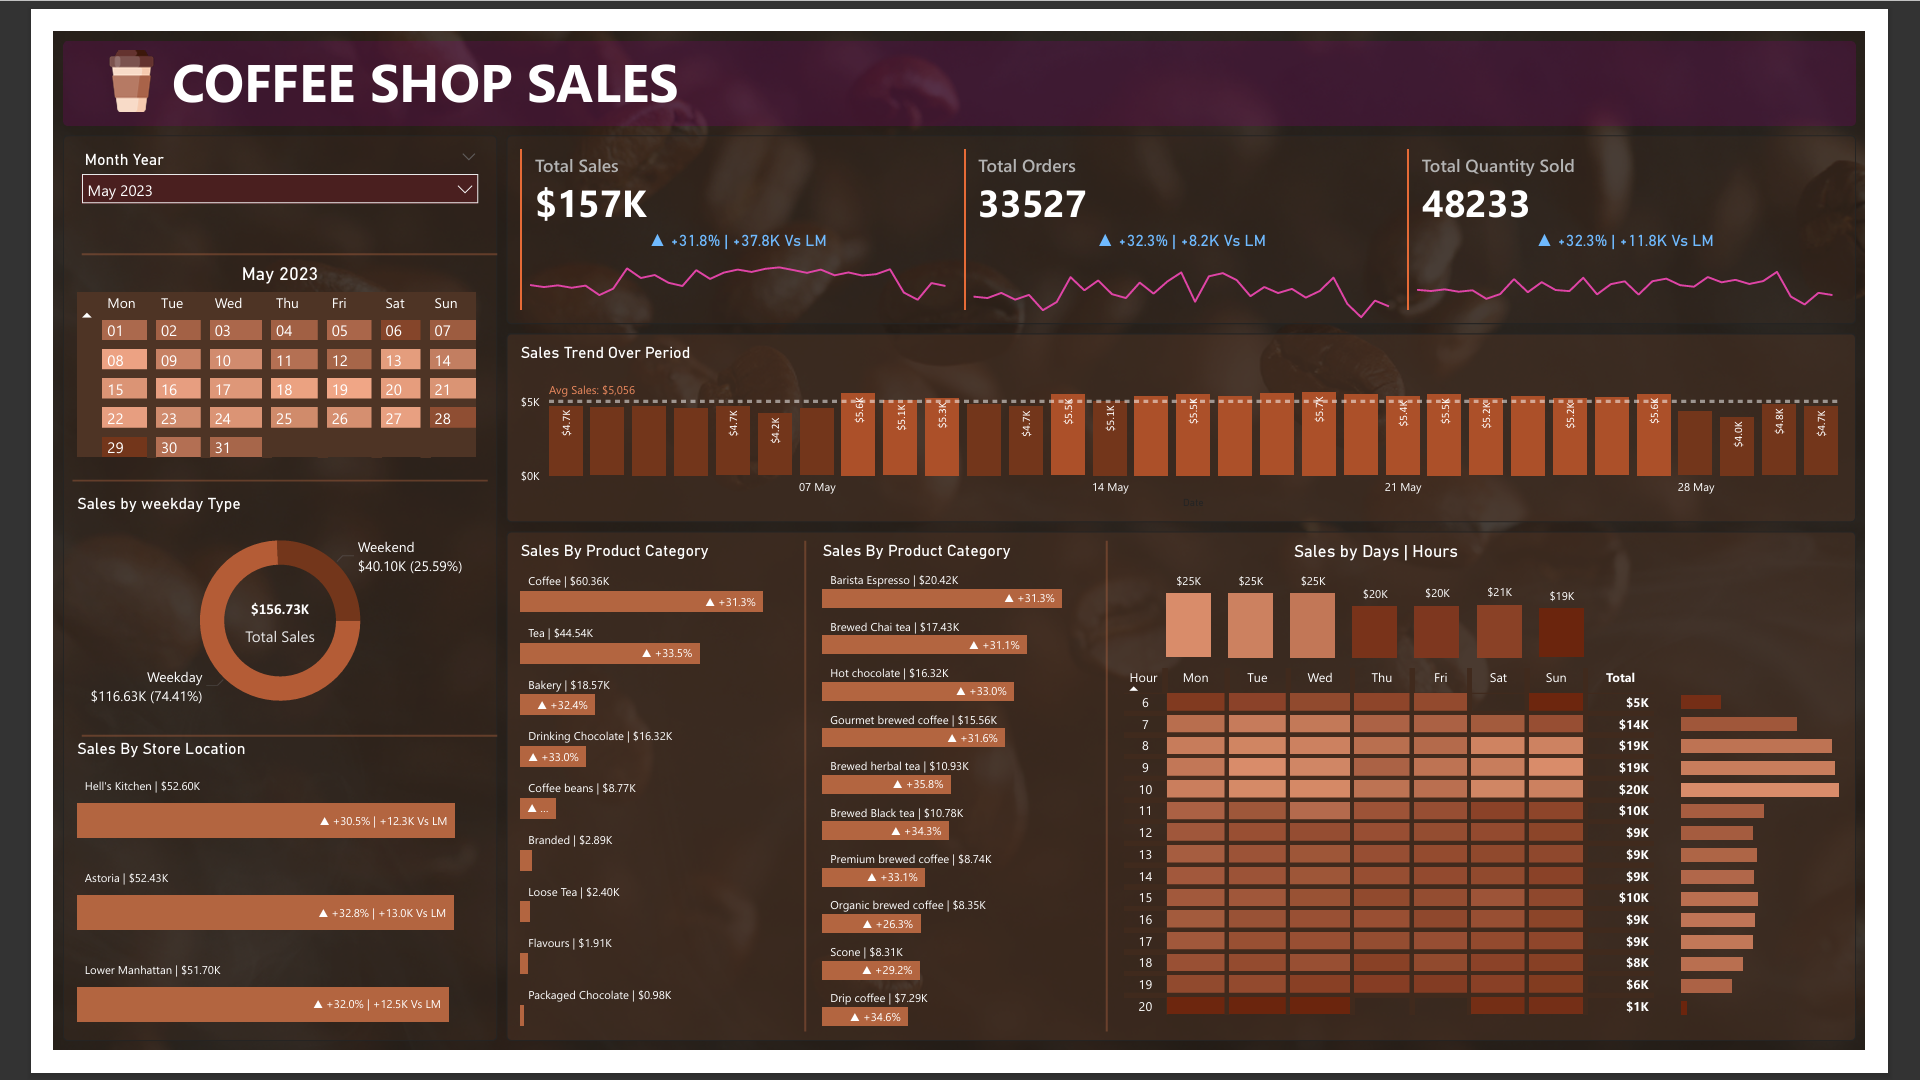

What the dashboard file says about the page in this screenshot:
{"tool":"powerbi","page":{"name":"Coffee Shop Sales","canvas":[1920,1080],"ordinal":0},"visuals":[{"type":"shape","box":[10,10,1900,90],"z":0},{"type":"shape","box":[10,110,460,960],"z":1000},{"type":"shape","box":[480,110,1430,200],"z":2000},{"type":"shape","box":[480,320,1430,200],"z":3000},{"type":"textbox","box":[120,10,600,90],"z":4000},{"type":"cardVisual","fields":{"Data":["Transactions.Total Sales"]},"box":[490,120,470,180],"z":5000},{"type":"shape","box":[480,530,1430,540],"z":6000},{"type":"image","box":[45,5,75,95],"z":7000},{"type":"lineChart","fields":{"Y":["Transactions.Total Sales"],"Category":["Date Table.Date Hierarchy.Date"]},"box":[490,210,470,100],"z":8000},{"type":"cardVisual","fields":{"Data":["Transactions.Total Orders"]},"box":[960,120,470,180],"z":9000},{"type":"lineChart","fields":{"Y":["Transactions.Total Orders"],"Category":["Date Table.Date Hierarchy.Date"]},"box":[960,210,470,100],"z":10000},{"type":"cardVisual","fields":{"Data":["Transactions.Total Quantity Sold"]},"box":[1430,120,470,180],"z":11000},{"type":"lineChart","fields":{"Y":["Transactions.Total Quantity Sold"],"Category":["Date Table.Date Hierarchy.Date"]},"box":[1430,210,470,90],"z":12000},{"type":"pivotTable","fields":{"Rows":["Date Table.Week Number"],"Columns":["Date Table.Day Name"],"Values":["Min(Date Table.Day Number)"]},"box":[20,272,440,200],"z":13000},{"type":"slicer","fields":{"Values":["Date Table.Month Year"]},"box":[20,120,440,100],"z":14000},{"type":"card","fields":{"Values":["Min(Date Table.Month Year)"]},"box":[165,232,150,50],"z":15000},{"type":"donutChart","title":"Sales by weekday Type","fields":{"Category":["Date Table.weekday Type"],"Y":["Transactions.Total Sales"]},"box":[20,490,440,250],"z":16000},{"type":"card","fields":{"Values":["Transactions.Total Sales"]},"box":[190,590,100,68],"z":17000},{"type":"clusteredBarChart","title":"Sales By Store Location","fields":{"Category":["Transactions.store_location"],"Y":["Transactions.Placeholder","Transactions.Total Sales"]},"box":[20,750,440,310],"z":18000},{"type":"shape","box":[790,540,12.5,520],"z":19000},{"type":"shape","box":[20,470,440,12],"z":20000},{"type":"columnChart","title":"Sales Trend Over Period","fields":{"Y":["Transactions.Total Sales"],"Category":["Date Table.Date"]},"box":[490,330,1410,180],"z":21000},{"type":"clusteredBarChart","title":"Sales By Product Category","fields":{"Y":["Transactions.Placeholder","Transactions.Total Sales"],"Category":["Transactions.product_category"]},"box":[490,540,300,520],"z":22000},{"type":"shape","box":[30,727.1,440,12.9],"z":23000},{"type":"shape","box":[30,230,440,12],"z":24000},{"type":"clusteredBarChart","title":"Sales By Product Category","fields":{"Y":["Transactions.Placeholder","Transactions.Total Sales"],"Category":["Transactions.product_type"]},"box":[810,540,300,520],"z":25000},{"type":"shape","box":[1110,540,12,520],"z":26000},{"type":"pivotTable","fields":{"Rows":["Transactions.transaction_hour"],"Columns":["Date Table.Day Name"],"Values":["Transactions.Total Sales"]},"box":[1130,670,590,400],"z":27000},{"type":"barChart","fields":{"Category":["Transactions.Hour"],"Y":["Transactions.Total Sales"]},"box":[1720,689,180,360],"z":28000},{"type":"barChart","fields":{"Category":["Transactions.Hour"],"Y":["Transactions.Total Sales"]},"box":[2483,1186,180,360],"z":29000},{"type":"columnChart","title":"Sales by Days | Hours","fields":{"Y":["Transactions.Total Sales"],"Category":["Date Table.Day Name"]},"box":[1174,540,455,130],"z":30000}]}

Visuals, with their boxes in screenshot pixels (x1, y1, x2, y2), scaled from the page's 1920x1080 canvas onto the 1920x1080 screenshot:
shape: (x1=10, y1=10, x2=1910, y2=100)
shape: (x1=10, y1=110, x2=470, y2=1070)
shape: (x1=480, y1=110, x2=1910, y2=310)
shape: (x1=480, y1=320, x2=1910, y2=520)
textbox: (x1=120, y1=10, x2=720, y2=100)
cardVisual - Transactions.Total Sales: (x1=490, y1=120, x2=960, y2=300)
shape: (x1=480, y1=530, x2=1910, y2=1070)
image: (x1=45, y1=5, x2=120, y2=100)
lineChart - Transactions.Total Sales x Date Table.Date Hierarchy.Date: (x1=490, y1=210, x2=960, y2=310)
cardVisual - Transactions.Total Orders: (x1=960, y1=120, x2=1430, y2=300)
lineChart - Transactions.Total Orders x Date Table.Date Hierarchy.Date: (x1=960, y1=210, x2=1430, y2=310)
cardVisual - Transactions.Total Quantity Sold: (x1=1430, y1=120, x2=1900, y2=300)
lineChart - Transactions.Total Quantity Sold x Date Table.Date Hierarchy.Date: (x1=1430, y1=210, x2=1900, y2=300)
pivotTable - Date Table.Week Number x Date Table.Day Name: (x1=20, y1=272, x2=460, y2=472)
slicer - Date Table.Month Year: (x1=20, y1=120, x2=460, y2=220)
card - Min(Date Table.Month Year): (x1=165, y1=232, x2=315, y2=282)
"Sales by weekday Type" donutChart: (x1=20, y1=490, x2=460, y2=740)
card - Transactions.Total Sales: (x1=190, y1=590, x2=290, y2=658)
"Sales By Store Location" clusteredBarChart: (x1=20, y1=750, x2=460, y2=1060)
shape: (x1=790, y1=540, x2=802, y2=1060)
shape: (x1=20, y1=470, x2=460, y2=482)
"Sales Trend Over Period" columnChart: (x1=490, y1=330, x2=1900, y2=510)
"Sales By Product Category" clusteredBarChart: (x1=490, y1=540, x2=790, y2=1060)
shape: (x1=30, y1=727, x2=470, y2=740)
shape: (x1=30, y1=230, x2=470, y2=242)
"Sales By Product Category" clusteredBarChart: (x1=810, y1=540, x2=1110, y2=1060)
shape: (x1=1110, y1=540, x2=1122, y2=1060)
pivotTable - Transactions.transaction_hour x Date Table.Day Name: (x1=1130, y1=670, x2=1720, y2=1070)
barChart - Transactions.Hour x Transactions.Total Sales: (x1=1720, y1=689, x2=1900, y2=1049)
"Sales by Days | Hours" columnChart: (x1=1174, y1=540, x2=1629, y2=670)
